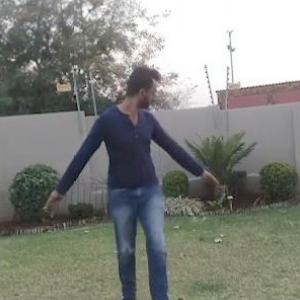land: (19, 62, 238, 299)
